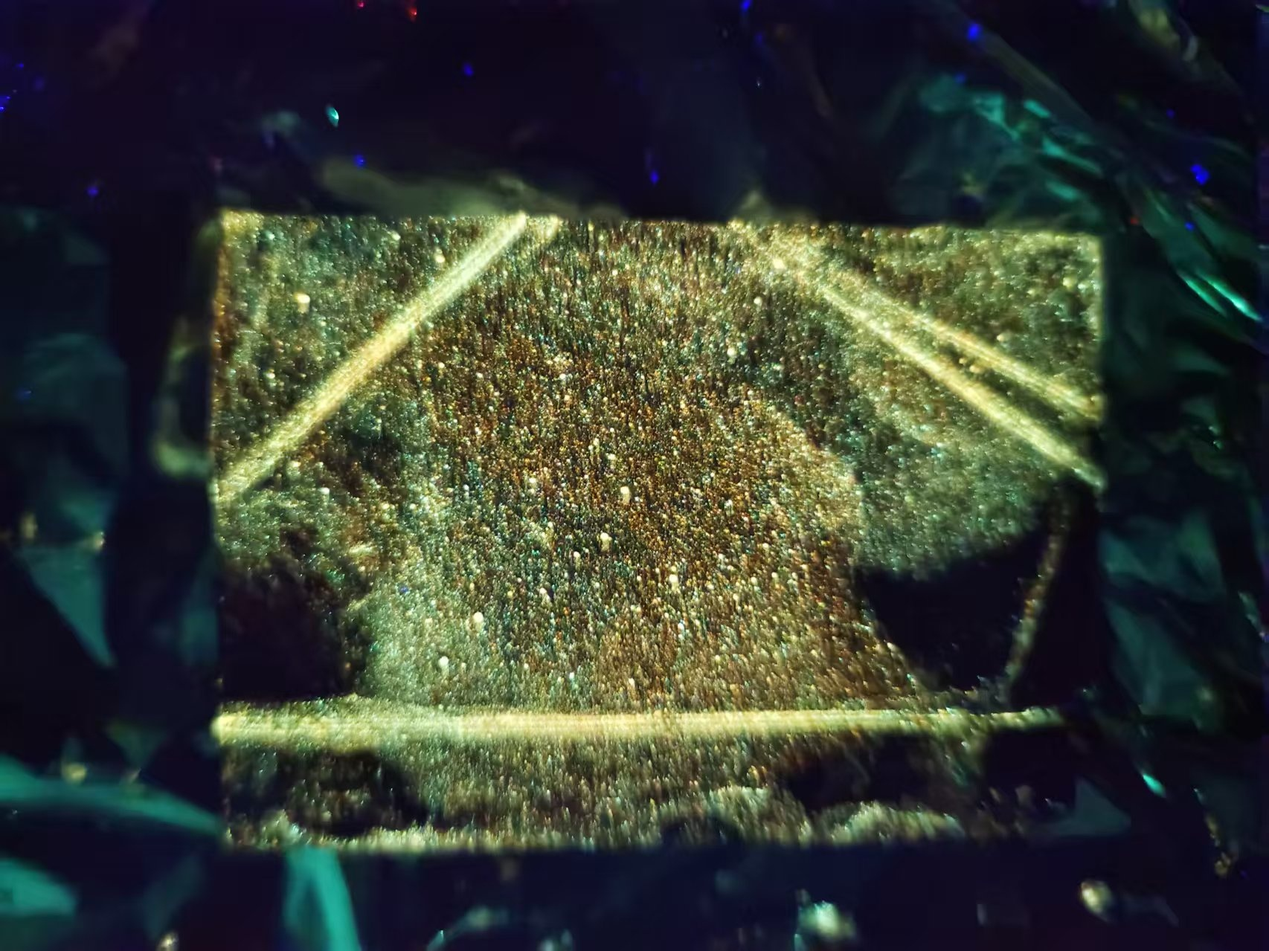Fissure: (211, 206, 572, 502), (727, 224, 1129, 486), (196, 680, 1107, 786)
